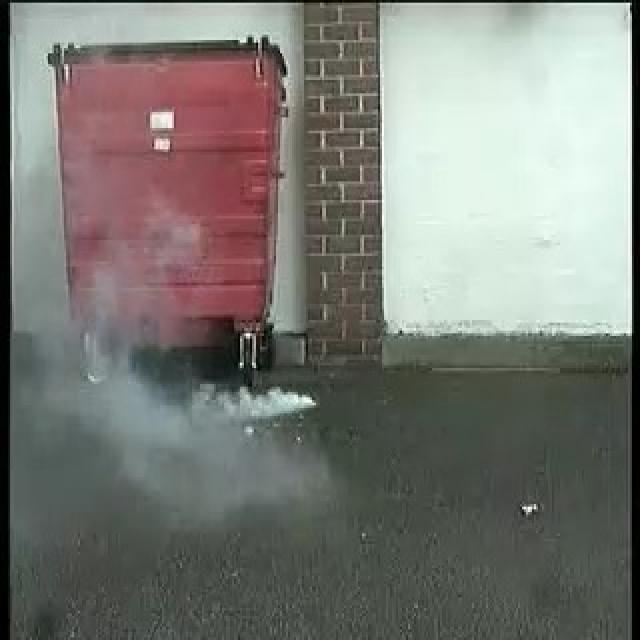smoke: (77, 280, 322, 455)
